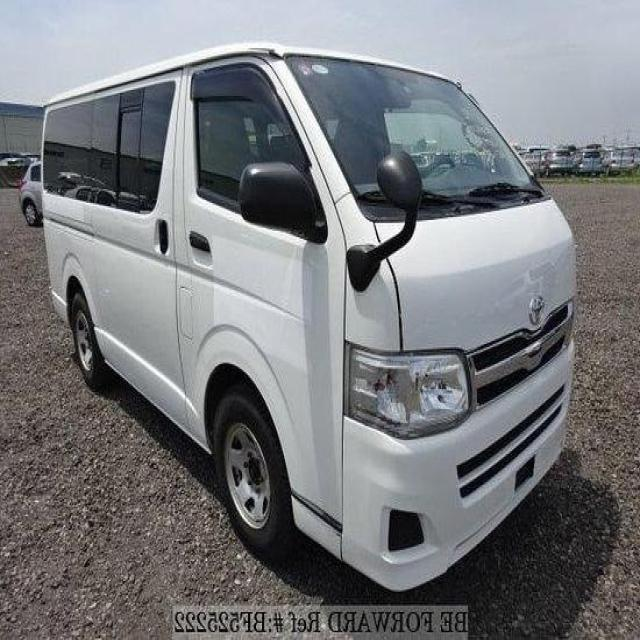Van: (41, 38, 575, 594)
